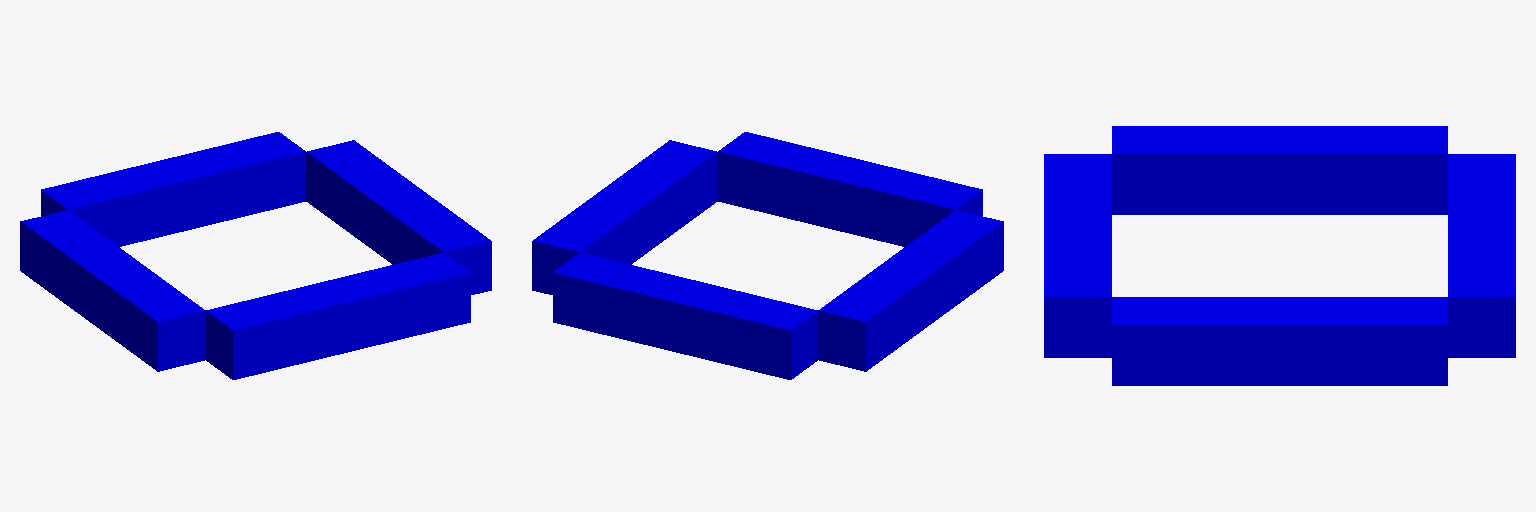
robot.urdf — walls.urdf:
<?xml version="1.0" ?>
<robot name="walls.urdf">
  <link name="baseLink">
    <contact>
      <lateral_friction value="0.5"/>
      <rolling_friction value="0.0"/>
      <contact_cfm value="0.0"/>
      <contact_erp value="1.0"/>
    </contact>
    <inertial>
      <origin rpy="0 0 0" xyz="0. 0. 0."/>
       <mass value=".1"/>
       <inertia ixx="1" ixy="0" ixz="0" iyy="1" iyz="0" izz="1"/>
    </inertial>
    <visual>
      <origin rpy="0 0 0" xyz="0 0 0"/>
      <geometry>
        <mesh filename="arena.obj" scale="1 1 1"/>
      </geometry>
       <material name="red">
        <color rgba="0 0 1 1"/>
      </material>
    </visual>
    <collision concave="yes">
      <origin rpy="0 0 0" xyz="0 0 0"/>
      <geometry>
    <mesh filename="arena.obj" scale="1 1 1"/>
      </geometry>
    </collision>
  </link>

  <link name="world"/>

  <joint name="fixed_joint" type="fixed">
    <parent link="world"/>
    <child link="baseLink"/>
    <origin rpy="0 0 0" xyz="0 0 0"/>
  </joint>
</robot>

--- Facts derived from the render (not from the file) ---
The picture shows the robot from 3 angles, left to right: view 1: azimuth 30°, elevation 25°; view 2: azimuth 150°, elevation 25°; view 3: azimuth 270°, elevation 25°; orthographic projection.
Robot: walls.urdf — 2 links, 1 joints (1 fixed); root link world; default pose: all joints at 0.
Links seen in each view (by area): view 1: baseLink; view 2: baseLink; view 3: baseLink.
Link boxes in pixels (bbox=[...]): baseLink: bbox=[20, 132, 491, 379]; baseLink: bbox=[532, 132, 1003, 379]; baseLink: bbox=[1044, 126, 1515, 385].
Size in the robot's own frame: 14 by 14 by 2 metres.
1 mesh visuals loaded from 1 distinct referenced files (1 OBJ).